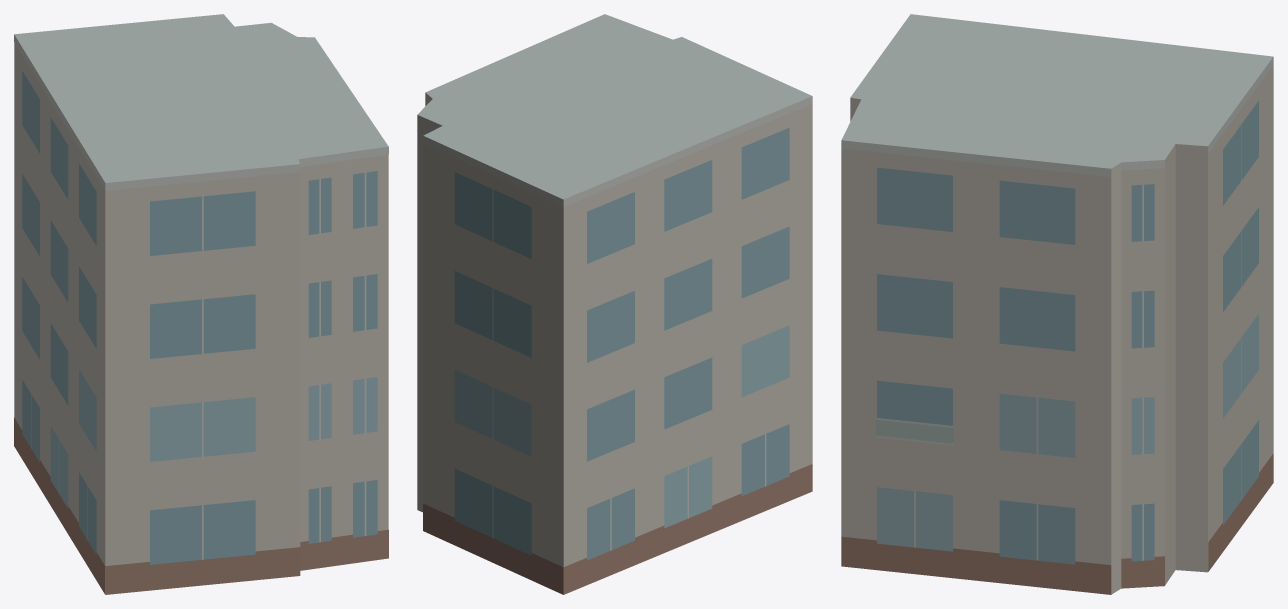
The model's file is survey-upis-32482112.glb.
The picture shows the model from 3 angles, left to right: view 1: azimuth 30°, elevation 25°; view 2: azimuth 150°, elevation 25°; view 3: azimuth 270°, elevation 25°; orthographic projection. The views are drawn at different scales.
Visible parts, largest first — view 1: survey-upis-32482112.tmp; view 2: survey-upis-32482112.tmp; view 3: survey-upis-32482112.tmp.
Boxes of the visible parts, bbox=[...] form: survey-upis-32482112.tmp: bbox=[14, 14, 388, 594]; survey-upis-32482112.tmp: bbox=[417, 14, 812, 594]; survey-upis-32482112.tmp: bbox=[841, 14, 1273, 594].
Size of the model in its own units: 9.98 by 12.8 by 11.78.
